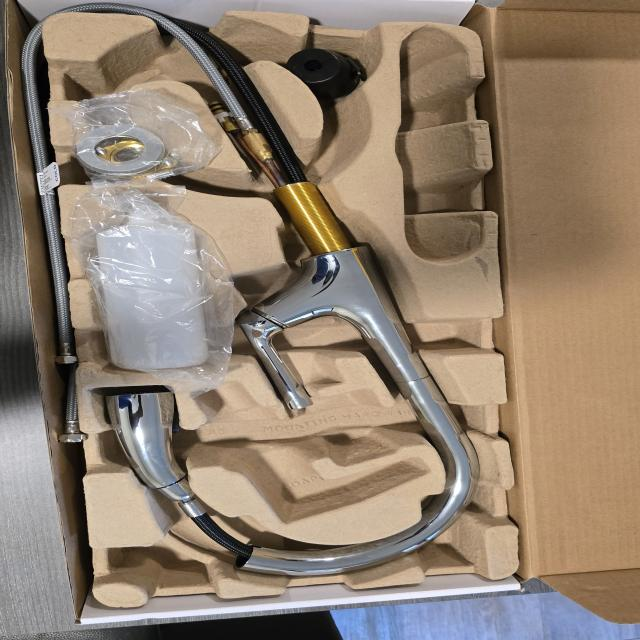1: (111, 8, 483, 578)
2m: (196, 382, 428, 523)
3: (94, 194, 209, 371)
4m: (394, 26, 483, 264)
5: (286, 46, 365, 101)
6: (65, 87, 226, 191)
7m: (65, 39, 163, 119)
